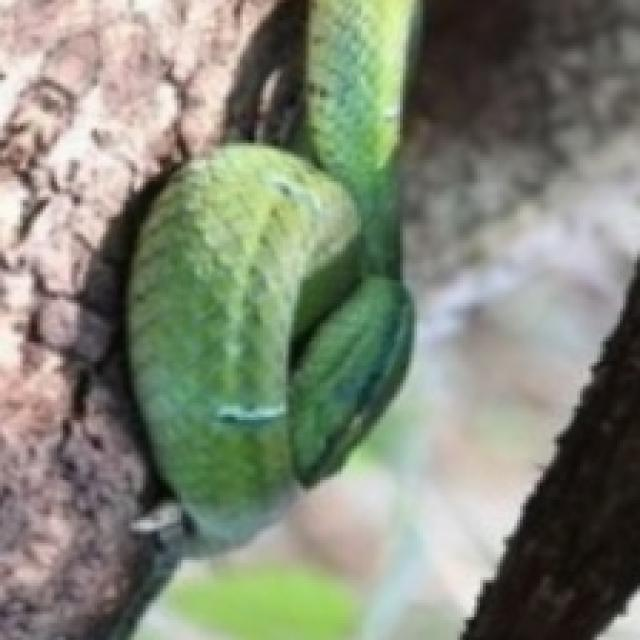north ph temple pitviper: (126, 0, 414, 540)
